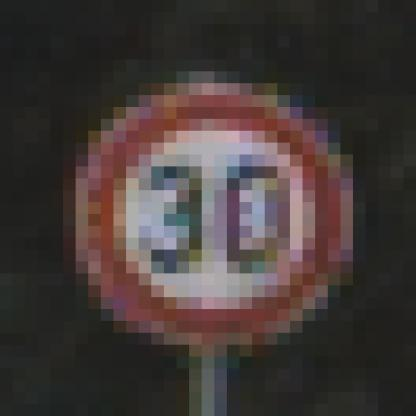Speed Limit 30: (86, 88, 347, 347)
